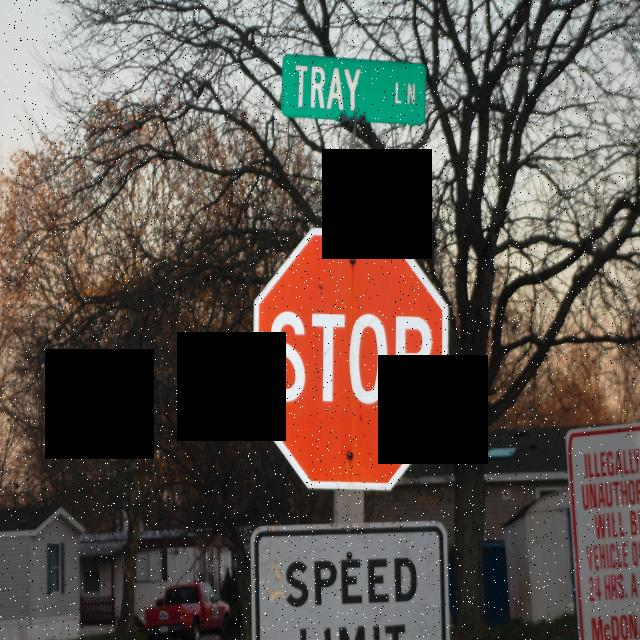stop: (252, 228, 453, 497)
